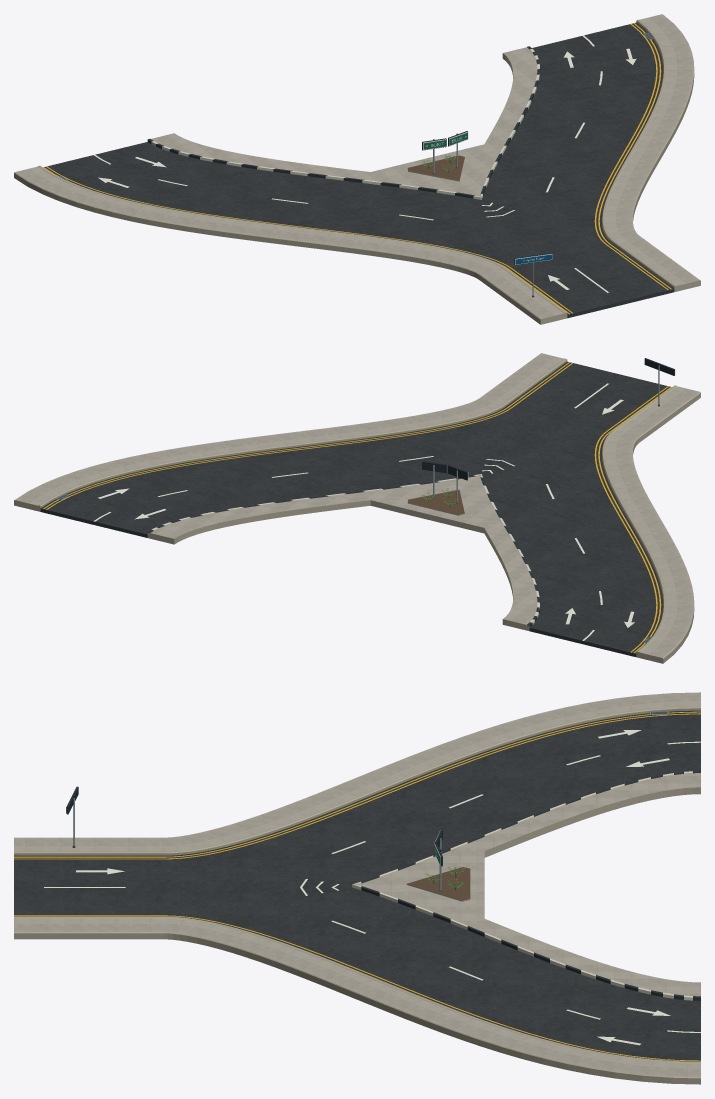
3 renders of one model, top to bottom at view 1: azimuth 30°, elevation 25°; view 2: azimuth 150°, elevation 25°; view 3: azimuth 270°, elevation 25°, orthographic. The views are drawn at different scales.
Parts seen in each view (by area): view 1: Road Deck, Kerbs and Footways, Splitter apron, Road Markings, Splitter edge blocks, Kerb face bands, Splitter planting pocket, Split direction boards; view 2: Road Deck, Kerbs and Footways, Splitter apron, Road Markings, Splitter edge blocks, Splitter planting pocket, Split direction boards; view 3: Road Deck, Kerbs and Footways, Splitter apron, Road Markings, Splitter edge blocks, Splitter planting pocket, Kerb face bands.
Boxes of the visible parts, x1=… form: Road Deck: x1=44, y1=22, x2=674, y2=318; Kerbs and Footways: x1=14, y1=14, x2=700, y2=324; Splitter apron: x1=151, y1=47, x2=537, y2=197; Road Markings: x1=43, y1=23, x2=671, y2=314; Splitter edge blocks: x1=147, y1=46, x2=539, y2=197; Kerb face bands: x1=147, y1=72, x2=539, y2=199; Splitter planting pocket: x1=407, y1=155, x2=464, y2=181; Split direction boards: x1=422, y1=131, x2=468, y2=173; Road Deck: x1=40, y1=361, x2=670, y2=656; Kerbs and Footways: x1=14, y1=353, x2=700, y2=663; Splitter apron: x1=147, y1=474, x2=539, y2=631; Road Markings: x1=43, y1=362, x2=671, y2=653; Splitter edge blocks: x1=147, y1=474, x2=539, y2=625; Splitter planting pocket: x1=407, y1=489, x2=464, y2=515; Split direction boards: x1=422, y1=461, x2=468, y2=503; Road Deck: x1=14, y1=710, x2=700, y2=1061; Kerbs and Footways: x1=14, y1=692, x2=700, y2=1084; Splitter apron: x1=355, y1=773, x2=700, y2=996; Road Markings: x1=14, y1=711, x2=700, y2=1061; Splitter edge blocks: x1=352, y1=771, x2=700, y2=998; Splitter planting pocket: x1=406, y1=867, x2=470, y2=901; Kerb face bands: x1=352, y1=885, x2=700, y2=1000.
Bounding box in the file's own units: 42.5 × 2.99 × 32.
Materials: 18 (2 with a texture image).
